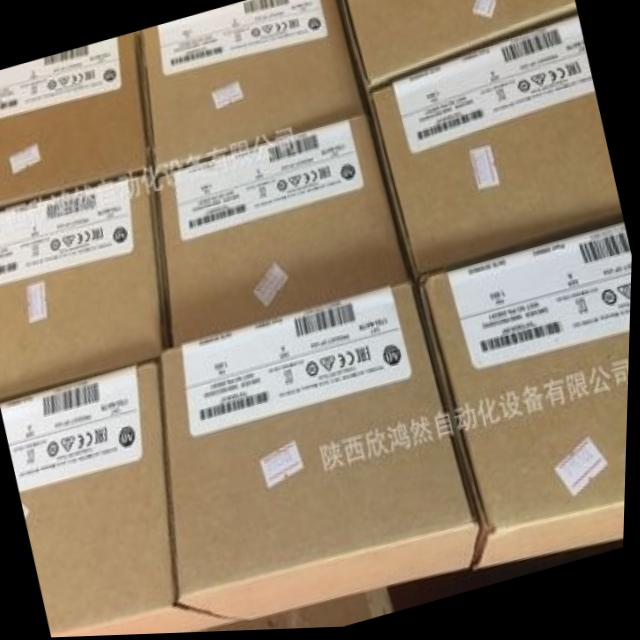box: (163, 282, 484, 622), (422, 228, 633, 571), (2, 362, 246, 638), (372, 19, 621, 276), (158, 116, 411, 348), (142, 0, 367, 176), (0, 175, 176, 400), (0, 33, 149, 207), (346, 0, 575, 87)
